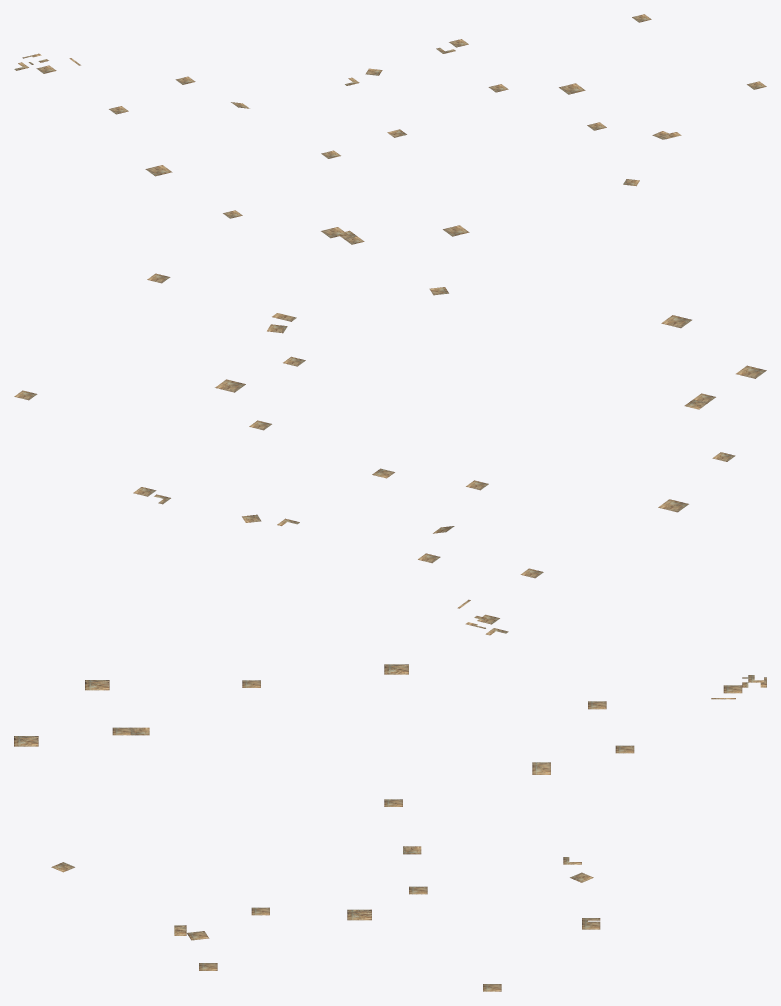
The picture shows the model from 3 angles, top to bottom: view 1: azimuth 30°, elevation 25°; view 2: azimuth 150°, elevation 25°; view 3: azimuth 270°, elevation 25°; orthographic projection. The views are drawn at different scales.
Parts seen in each view (by area): view 1: Object_10; view 2: Object_10; view 3: Object_10.
Boxes of the visible parts, left/top/right/bottom form: Object_10: left=14, top=14, right=766, bottom=244; Object_10: left=14, top=273, right=766, bottom=635; Object_10: left=14, top=664, right=766, bottom=991.
Size of the model in its own units: 52.91 by 3.84 by 52.05.
1 material, 1 textured.
